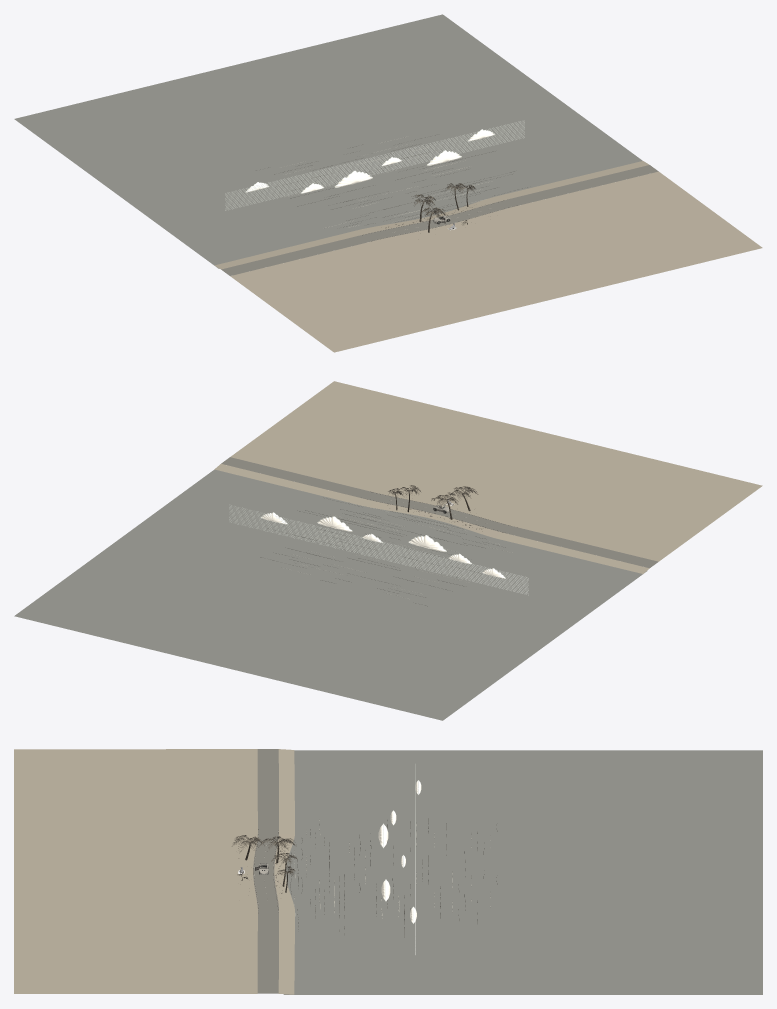
3 views of the same model, one above another, from view 1: azimuth 30°, elevation 25°; view 2: azimuth 150°, elevation 25°; view 3: azimuth 270°, elevation 25° (orthographic). The views are drawn at different scales.
Visible parts, largest first — view 1: Water, Ground, Road, Clouds, Palms; view 2: Water, Ground, Road, Clouds, Palms; view 3: Water, Ground, Road, Palms, Clouds.
Boxes of the visible parts, x1,y1,x2,y2 form: Water: [14, 14, 642, 268]; Ground: [214, 161, 762, 352]; Road: [221, 165, 658, 275]; Clouds: [225, 121, 524, 210]; Palms: [414, 183, 476, 232]; Water: [14, 469, 647, 720]; Ground: [214, 381, 762, 573]; Road: [221, 457, 658, 568]; Clouds: [229, 505, 528, 595]; Palms: [388, 485, 478, 519]; Water: [283, 750, 762, 994]; Ground: [14, 749, 294, 994]; Road: [253, 749, 278, 993]; Palms: [232, 835, 297, 892]; Clouds: [378, 764, 421, 954].
Size of the model in its own units: 116 by 6.6 by 150.
28 materials, 5 textured.
